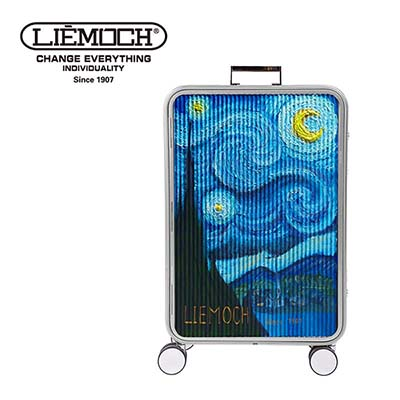suitcase: (157, 63, 348, 377)
